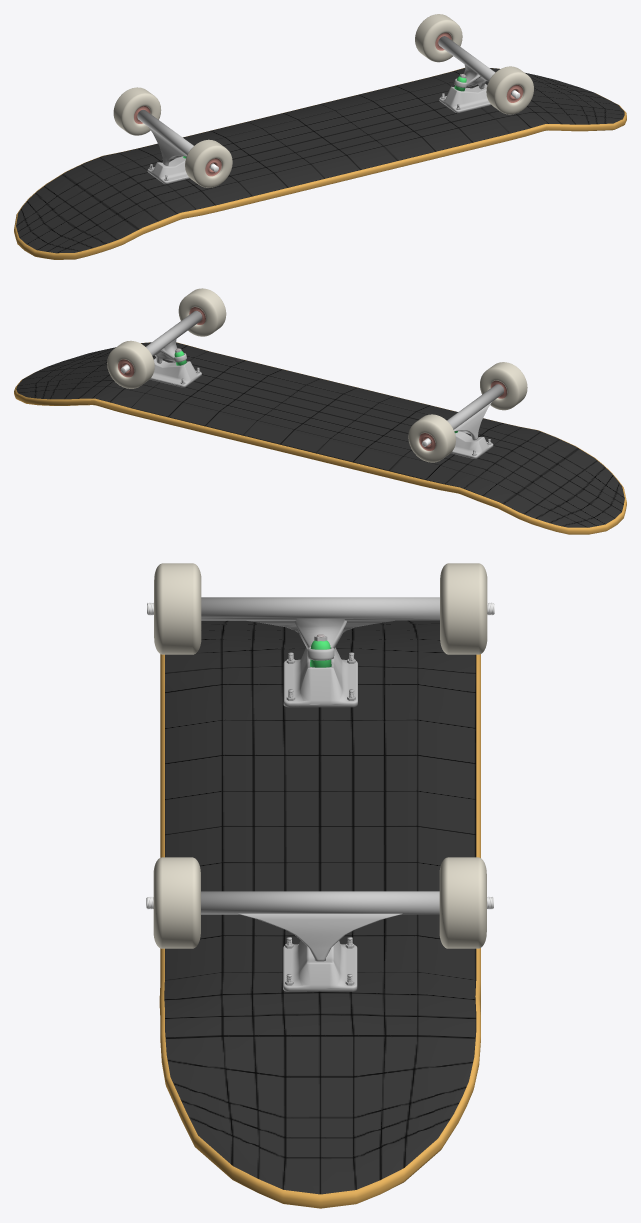
The model's file is deck4.gltf.
The picture shows the model from 3 angles, top to bottom: view 1: azimuth 30°, elevation 25°; view 2: azimuth 150°, elevation 25°; view 3: azimuth 270°, elevation 25°; orthographic projection. The views are drawn at different scales.
Parts seen in each view (by area): view 1: Cube, Plane.001, Plane.002; view 2: Cube, Plane.001, Plane.002; view 3: Cube, Plane.001, Plane.002.
Boxes of the visible parts, bbox=[...] form: Cube: bbox=[14, 68, 626, 259]; Plane.001: bbox=[415, 14, 533, 114]; Plane.002: bbox=[113, 87, 232, 187]; Cube: bbox=[14, 342, 626, 534]; Plane.001: bbox=[107, 288, 226, 388]; Plane.002: bbox=[408, 362, 527, 462]; Cube: bbox=[159, 620, 480, 1208]; Plane.001: bbox=[146, 857, 493, 991]; Plane.002: bbox=[147, 563, 494, 707].
Size of the model in its own units: 3.92 by 0.6466 by 0.992.
18 materials, 1 textured.
